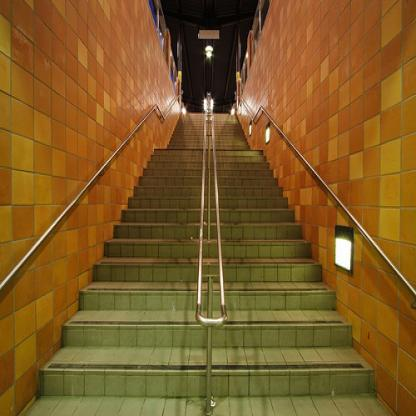stairs: (236, 266, 321, 409)
